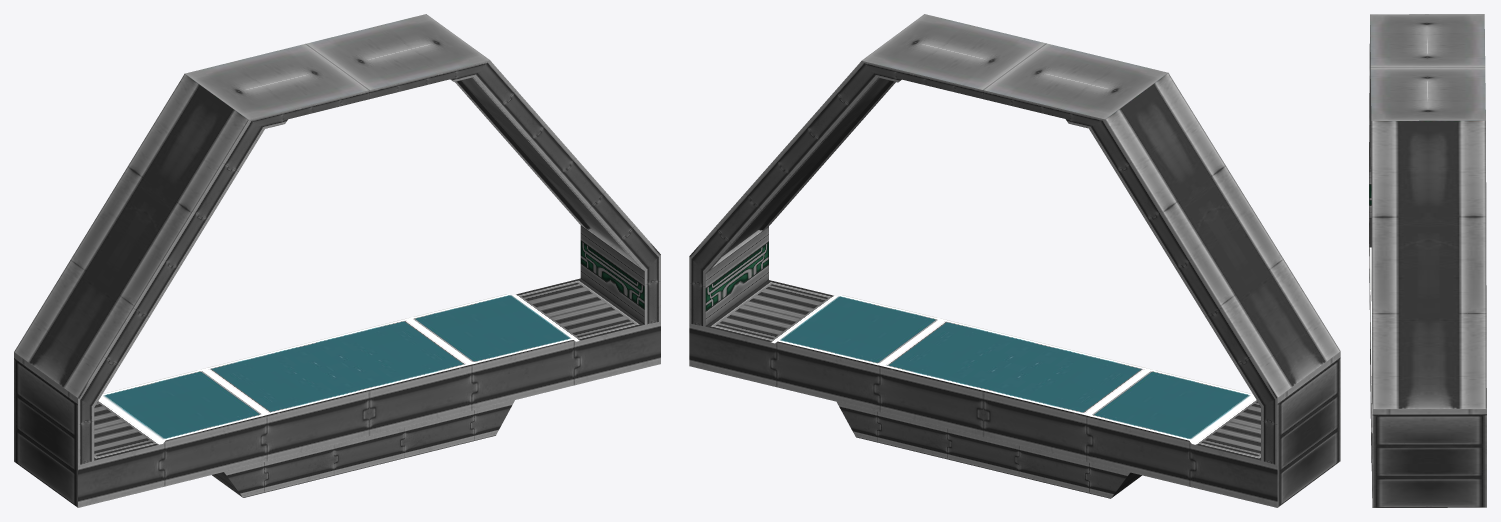
Rendered from ARC1110036.fbx.
3 views of the same model, side by side, from view 1: azimuth 30°, elevation 25°; view 2: azimuth 150°, elevation 25°; view 3: azimuth 270°, elevation 25° (orthographic). The views are drawn at different scales.
Visible parts, largest first — view 1: smARC1110036; view 2: smARC1110036; view 3: smARC1110036.
Boxes of the visible parts, bbox=[...] form: smARC1110036: bbox=[14, 14, 660, 507]; smARC1110036: bbox=[689, 14, 1340, 507]; smARC1110036: bbox=[1369, 14, 1486, 507].
Size of the model in its own units: 529 by 326 by 102.
Materials: 1 (1 with a texture image).
